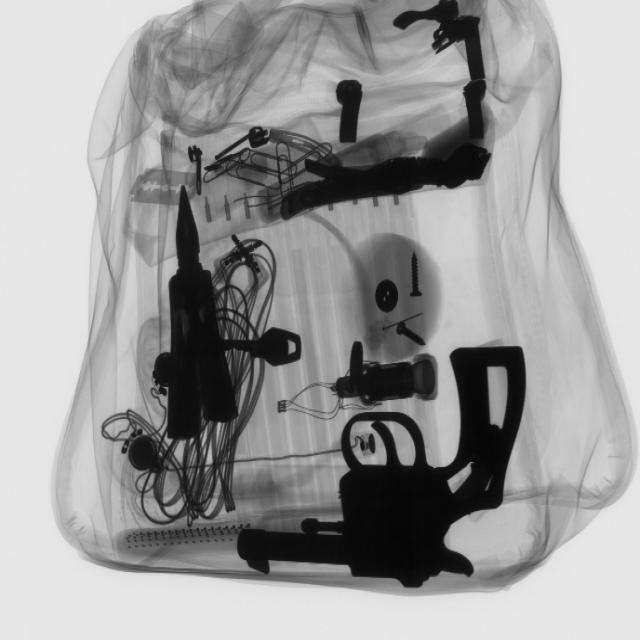BLADE: (126, 165, 185, 211)
GUN: (236, 338, 539, 587)
SCREW: (402, 247, 436, 307), (391, 312, 435, 357)
